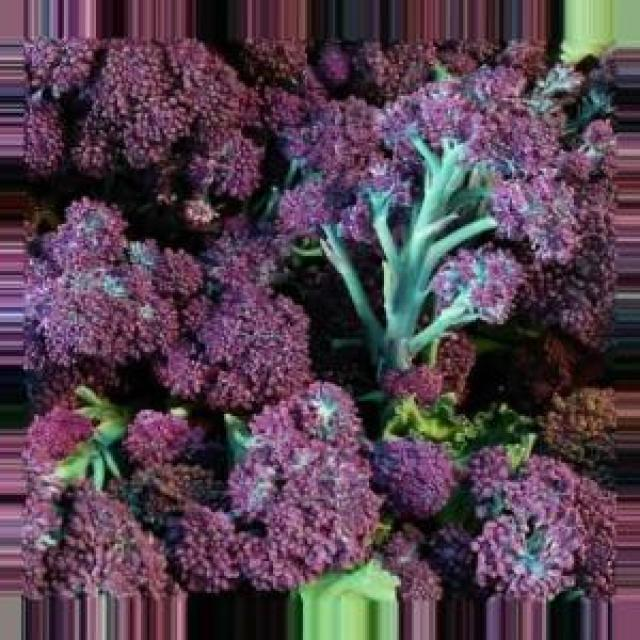Healthy: (20, 39, 620, 607), (321, 131, 498, 426)
